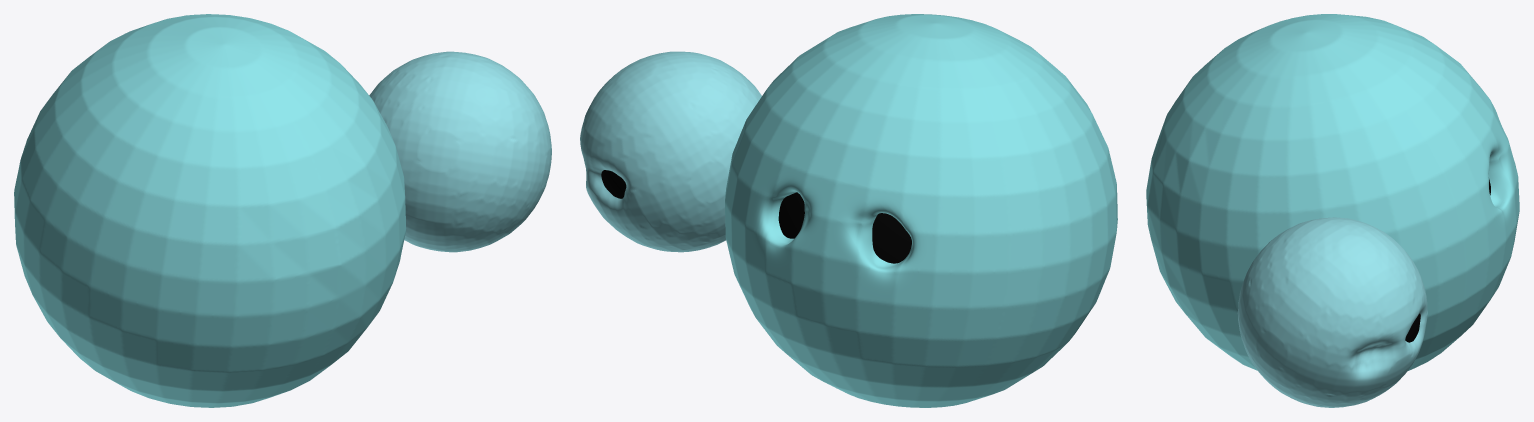
3 views of the same model, side by side, from view 1: azimuth 30°, elevation 25°; view 2: azimuth 150°, elevation 25°; view 3: azimuth 270°, elevation 25° (orthographic). The views are drawn at different scales.
Parts seen in each view (by area): view 1: Sphere, Sphere.001; view 2: Sphere, Sphere.001, Sphere.002, Sphere.003; view 3: Sphere, Sphere.001.
Boxes of the visible parts, x1,y1,x2,y2 form: Sphere: [14, 14, 406, 407]; Sphere.001: [369, 51, 551, 252]; Sphere: [725, 14, 1117, 407]; Sphere.001: [580, 51, 761, 252]; Sphere.002: [778, 192, 911, 263]; Sphere.003: [601, 170, 626, 198]; Sphere: [1146, 14, 1519, 370]; Sphere.001: [1237, 217, 1427, 407].
Size of the model in its own units: 292 by 200 by 200.
